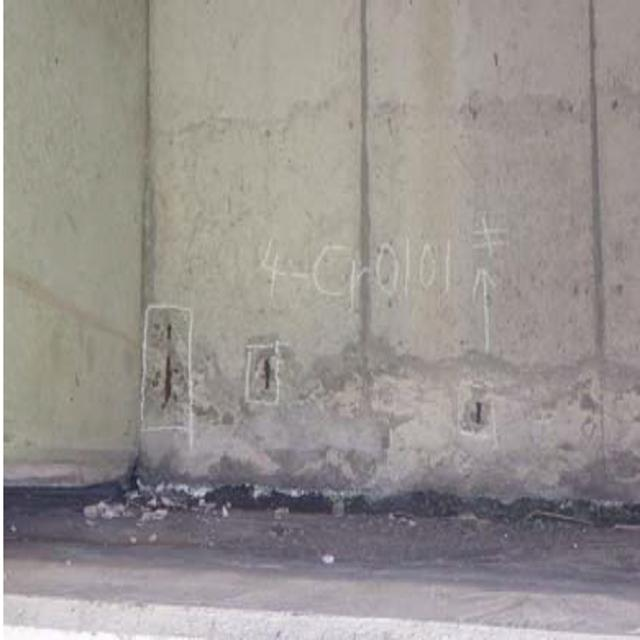spalling: (137, 300, 193, 443), (450, 373, 499, 446), (241, 336, 283, 411)
